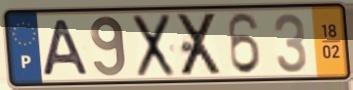3: (273, 12, 309, 75)
6: (226, 11, 263, 77)
9: (88, 14, 129, 79)
A: (40, 18, 91, 78)
X: (175, 11, 225, 79), (132, 12, 177, 80)
